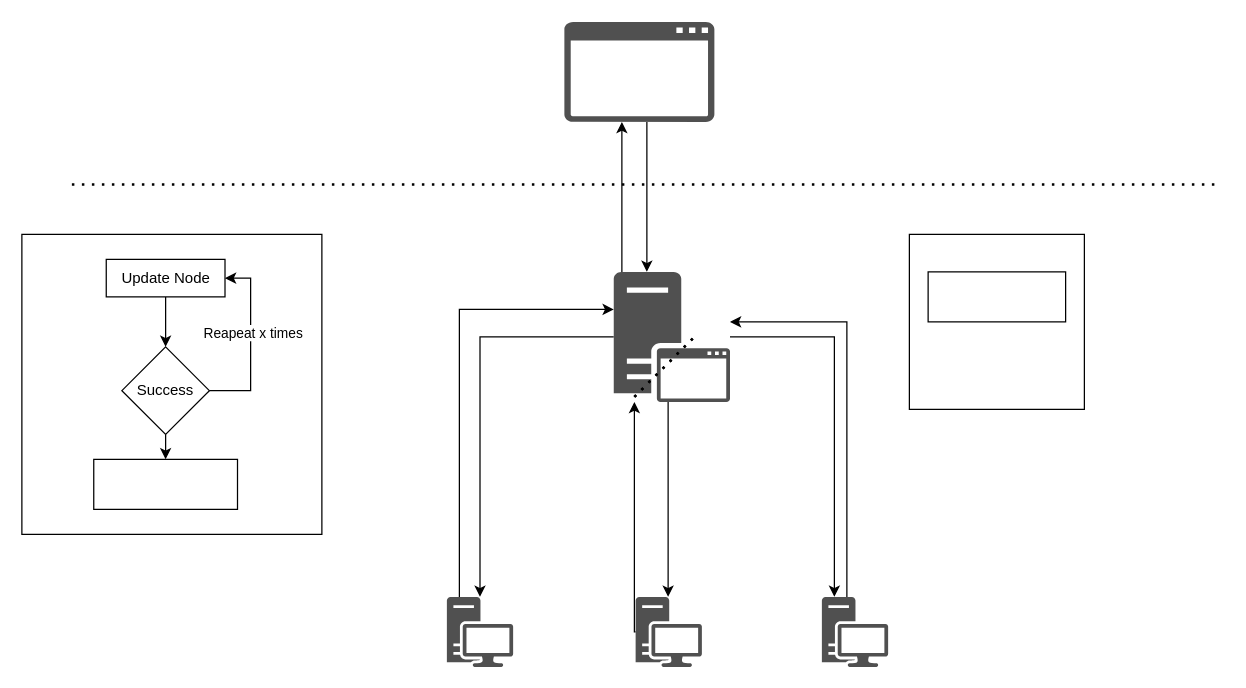
Image size: 1246x688. Some labels were removed from this diagram. The box of each missing label's shape, as (x1, y1, x2, y2) in pixels:
Check node status: (927, 271, 1066, 322)
Inform Client success: (92, 458, 238, 509)
